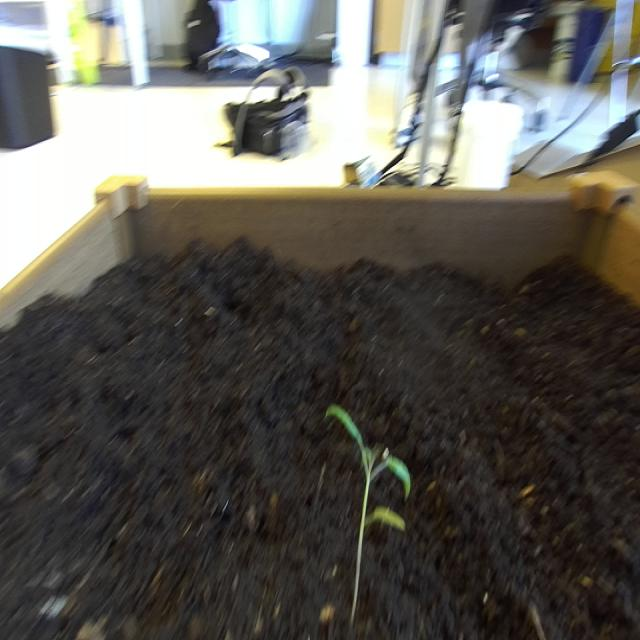Healthy: (316, 381, 419, 633)
